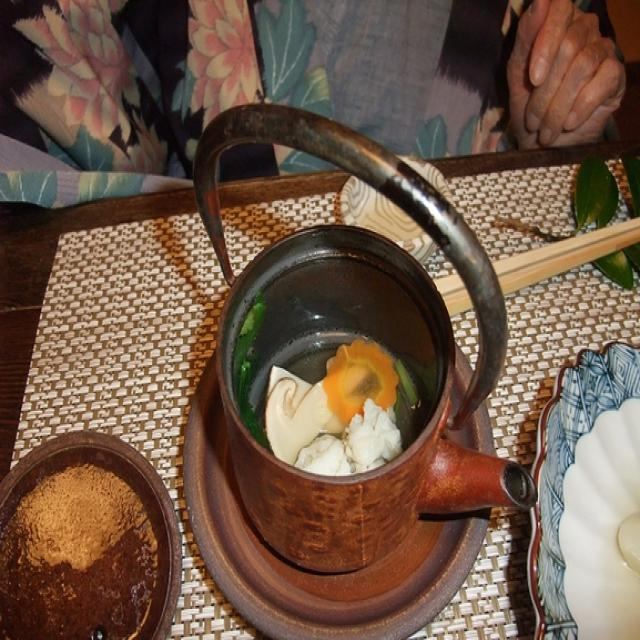汤锅炖物: (203, 221, 469, 508)
